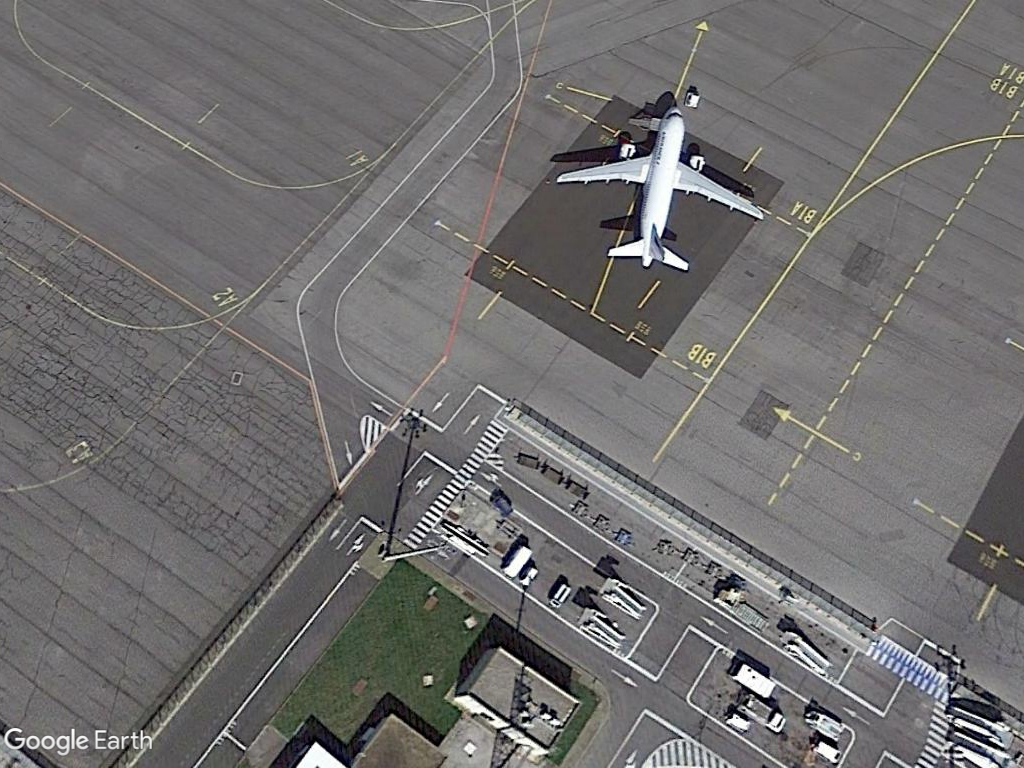airliner: (547, 101, 769, 280)
stairtruck: (773, 622, 834, 677), (598, 568, 649, 621), (576, 605, 632, 650)
